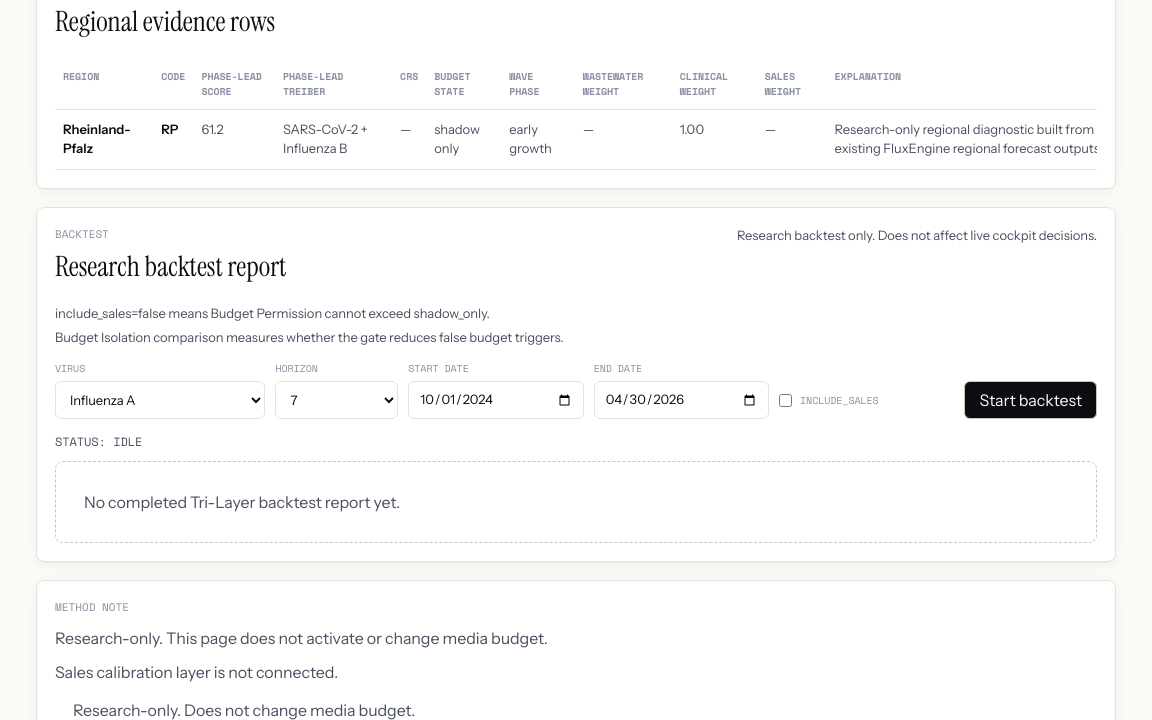
Test: TriLayerPage › renders polling failure without implying production impact
(page scrolled)
What coordinates should you click on to do the following:
click the button "Start backtest"
I would click on:
 (1031, 400)
Its box is [964, 381, 1097, 419].
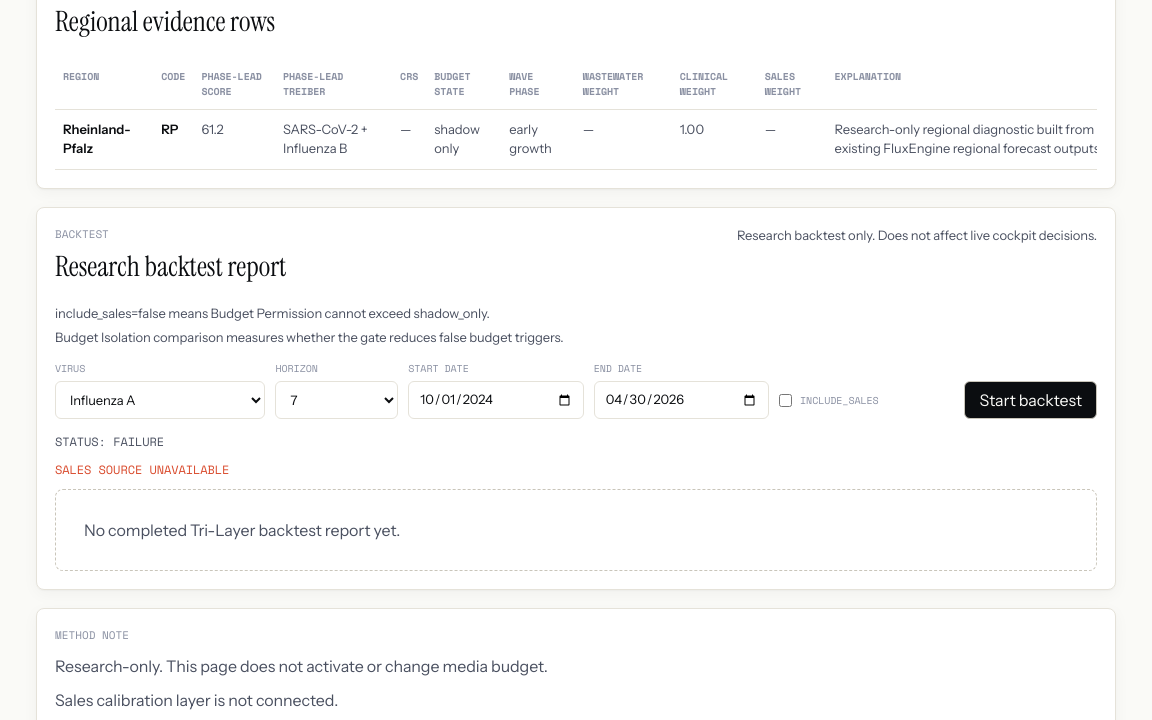
Check: the text "Research backtest only. Does not affect live cockpit decisions." is shown, box [737, 226, 1097, 244]
Check: the text "sales source unavailable" is shown, box [55, 461, 229, 478]
